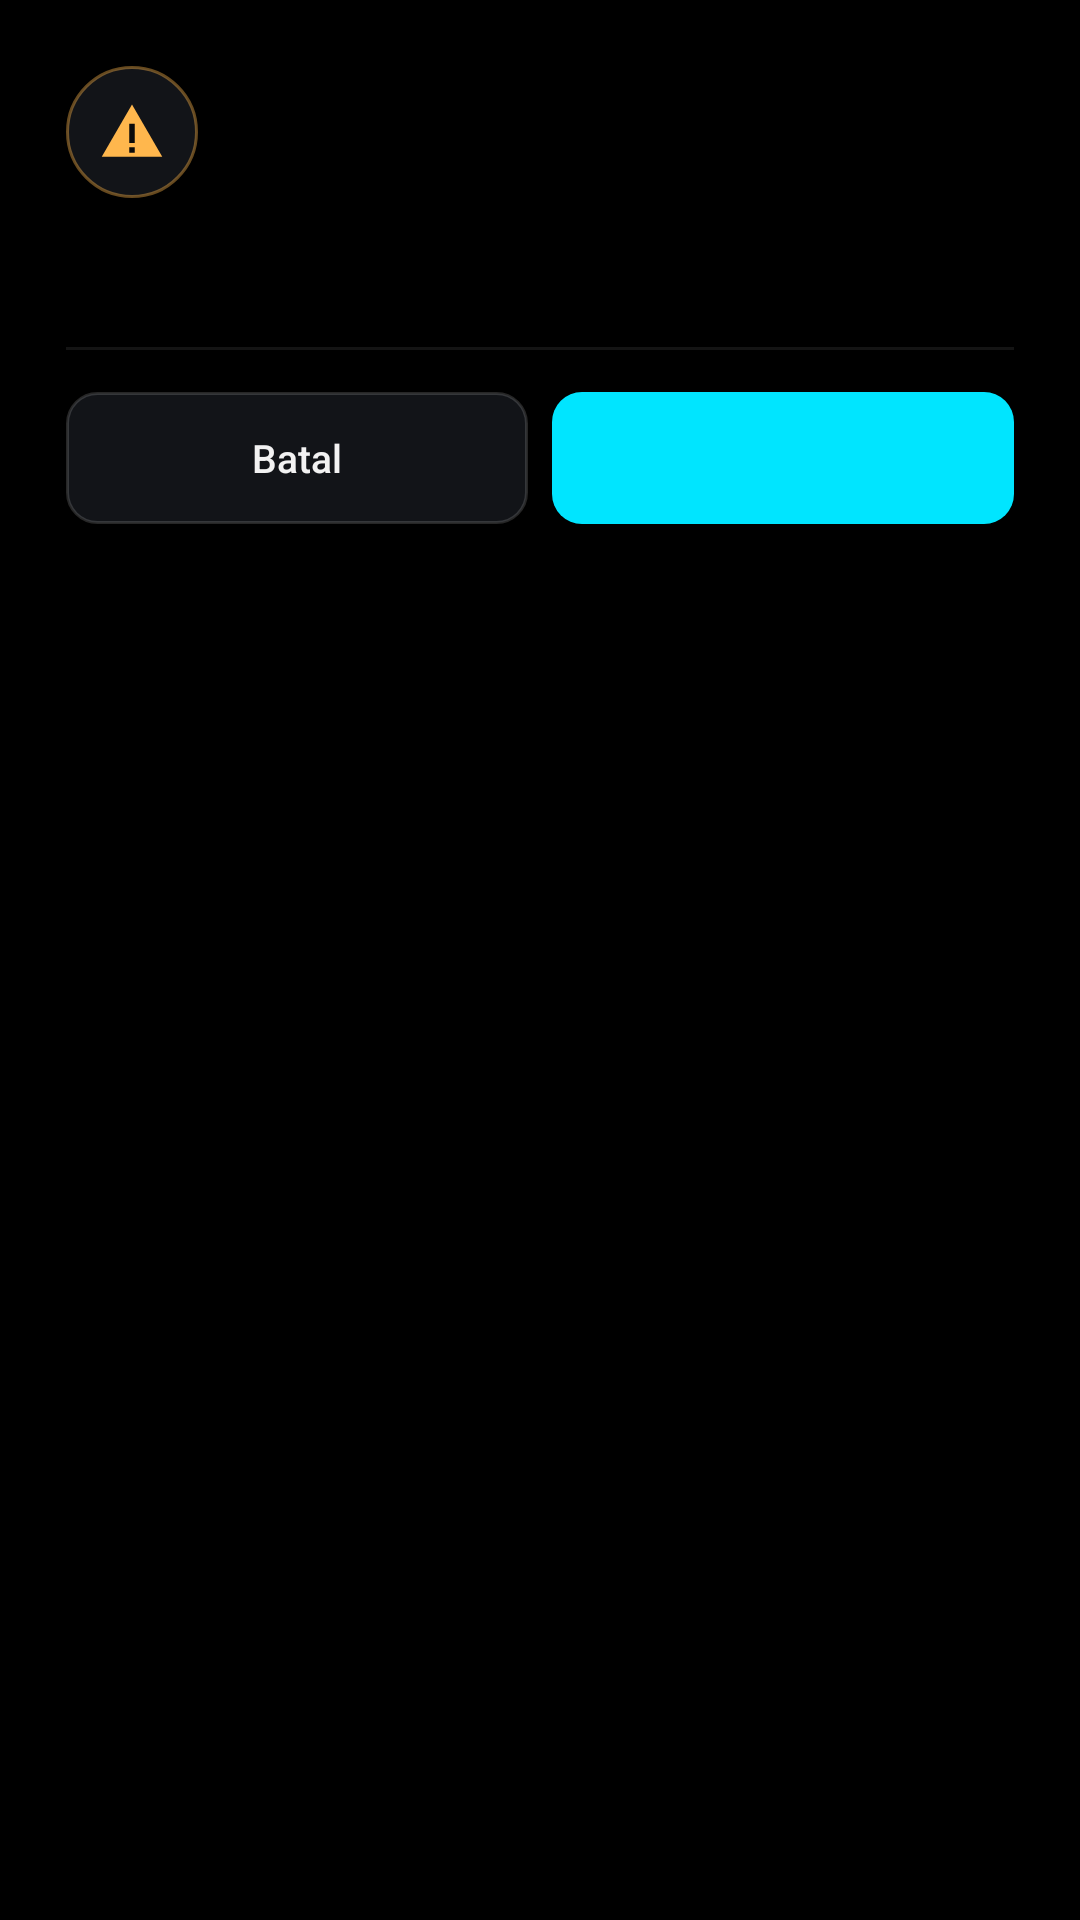

Where icons sit on this 1080px×1920px app screen, as (x1, y1, x2, y2):
warning: (102, 105, 162, 157)
